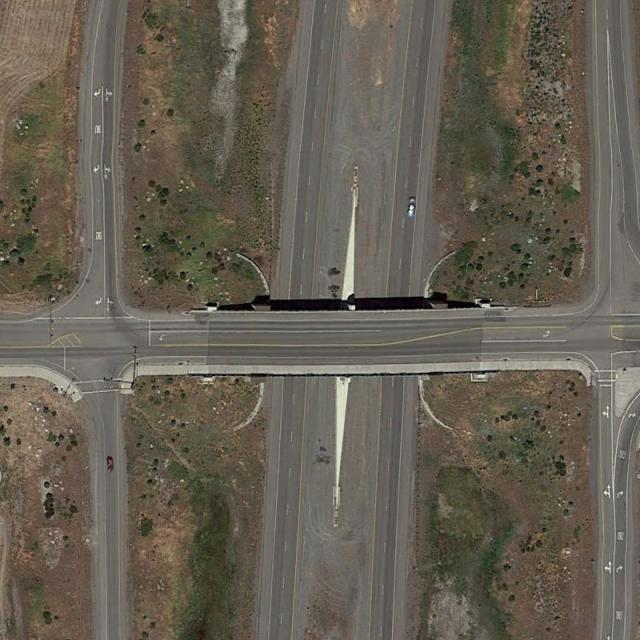vehicle: (407, 197, 416, 217), (107, 457, 114, 471)
